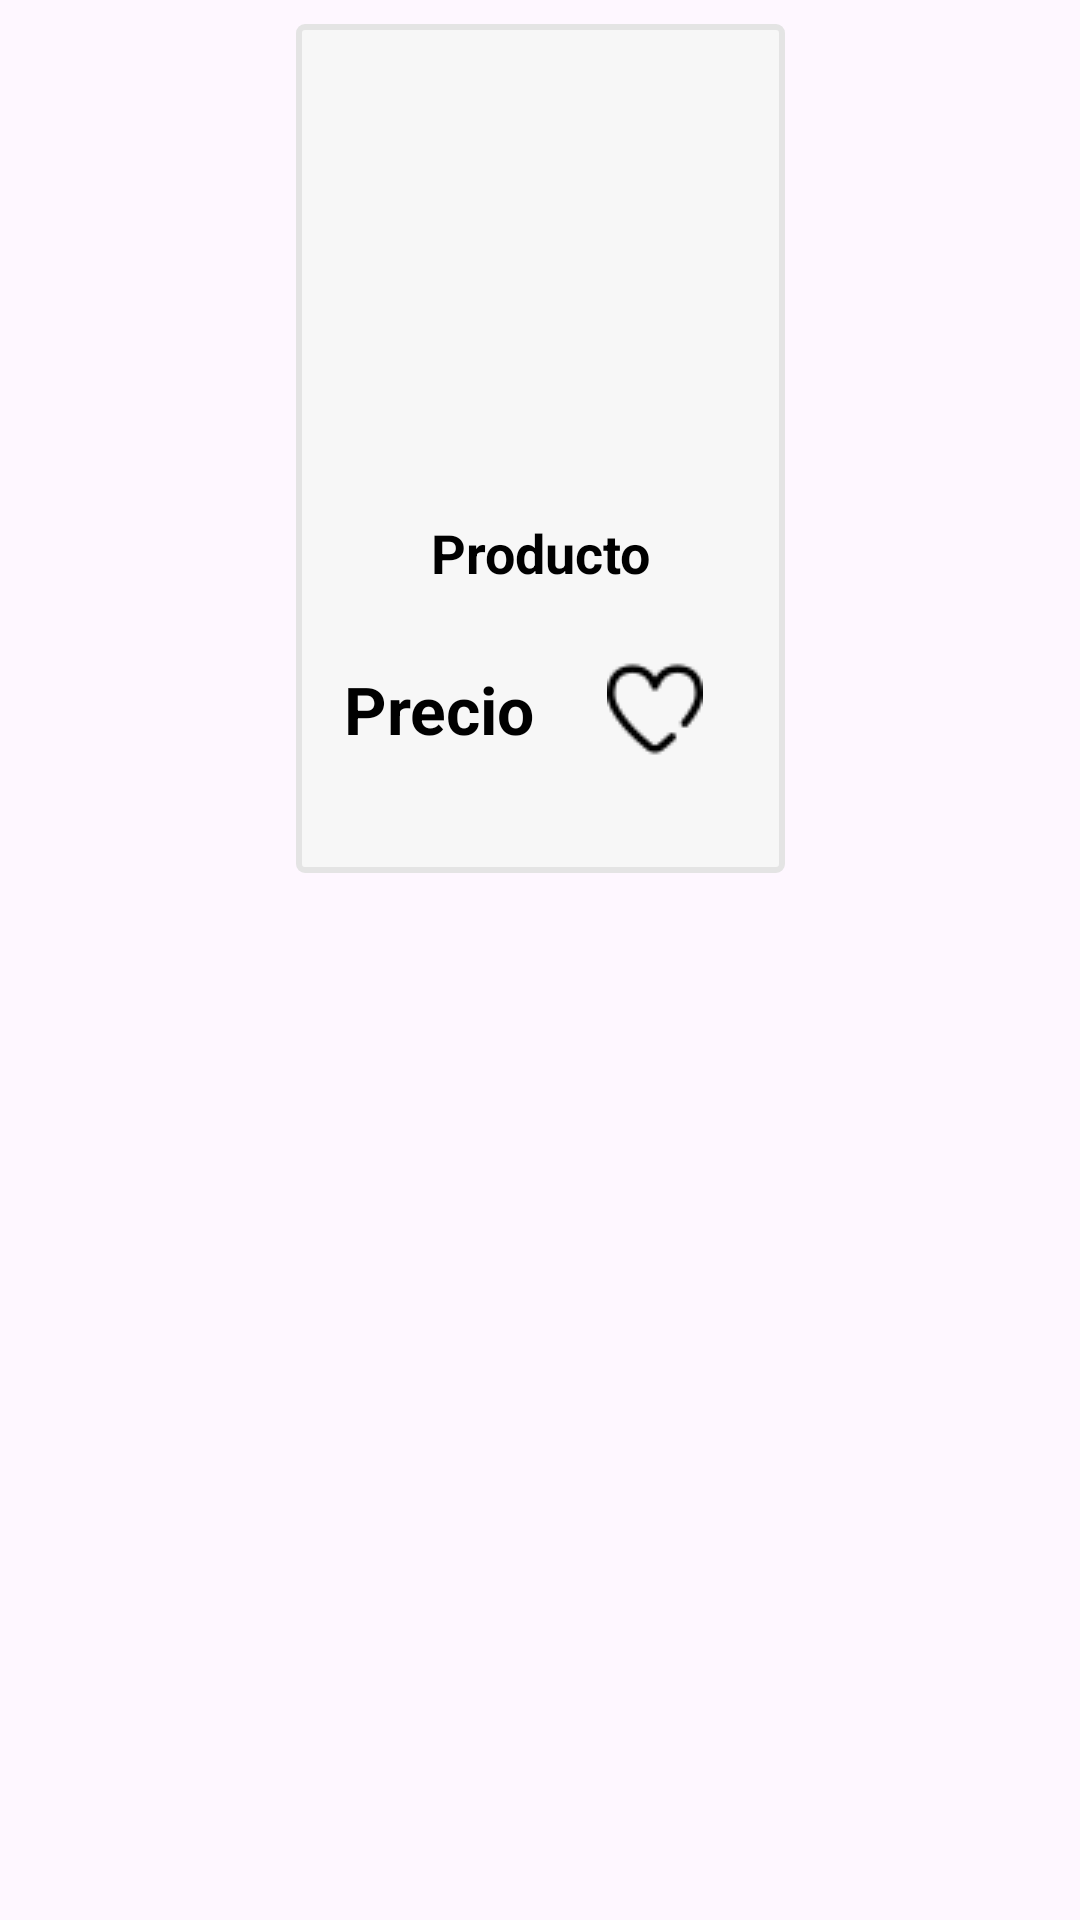

Screen size 1080 x 1920. Icon name, then its box in pixels as (x1=x1, y1=y1, x2=x2, y2=y2):
Me gusta: (x1=607, y1=663, x2=703, y2=755)
